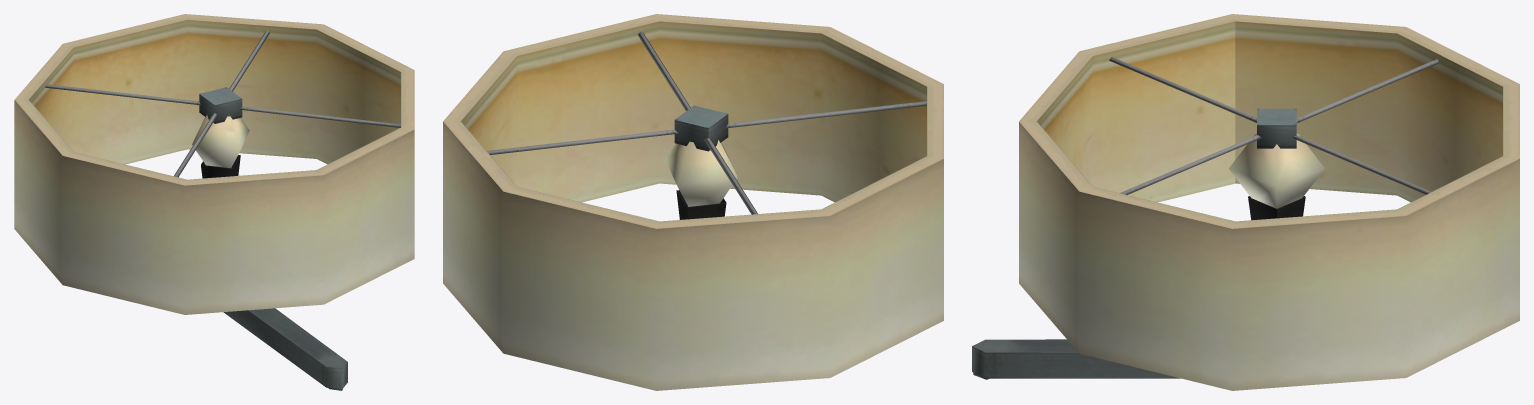
File: paris_bookstore_wall_light_top_on_lod2.glb
The picture shows the model from 3 angles, left to right: view 1: azimuth 30°, elevation 25°; view 2: azimuth 150°, elevation 25°; view 3: azimuth 270°, elevation 25°; orthographic projection. The views are drawn at different scales.
Visible parts, largest first — view 1: surf0; view 2: surf0; view 3: surf0.
Part boxes in pixels (x1=…): surf0: x1=14, y1=14, x2=414, y2=390; surf0: x1=443, y1=14, x2=943, y2=390; surf0: x1=972, y1=14, x2=1519, y2=390.
Size of the model in its own units: 20.04 by 11.21 by 21.58.
